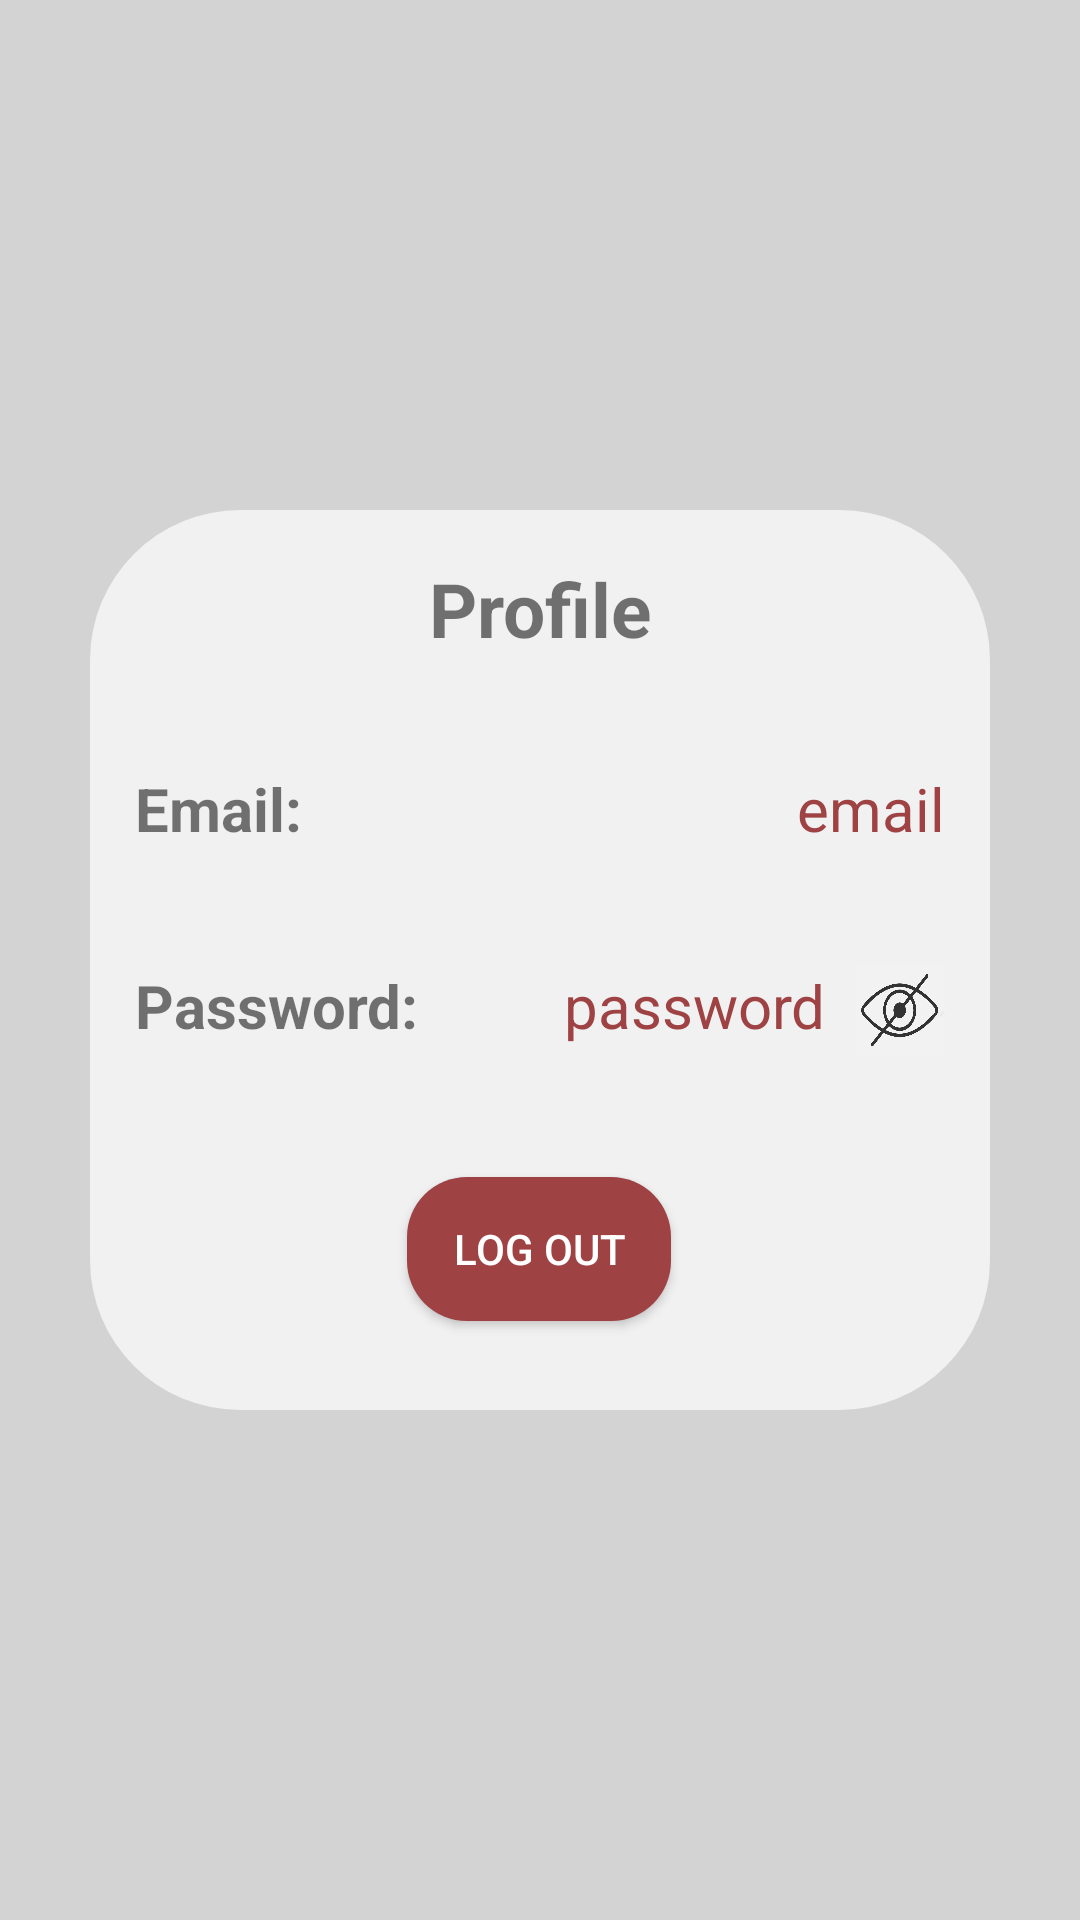

Screen size 1080px×1920px. Icon name, then its center in pixels as [x,y]:
hide pass: [899,1010]
